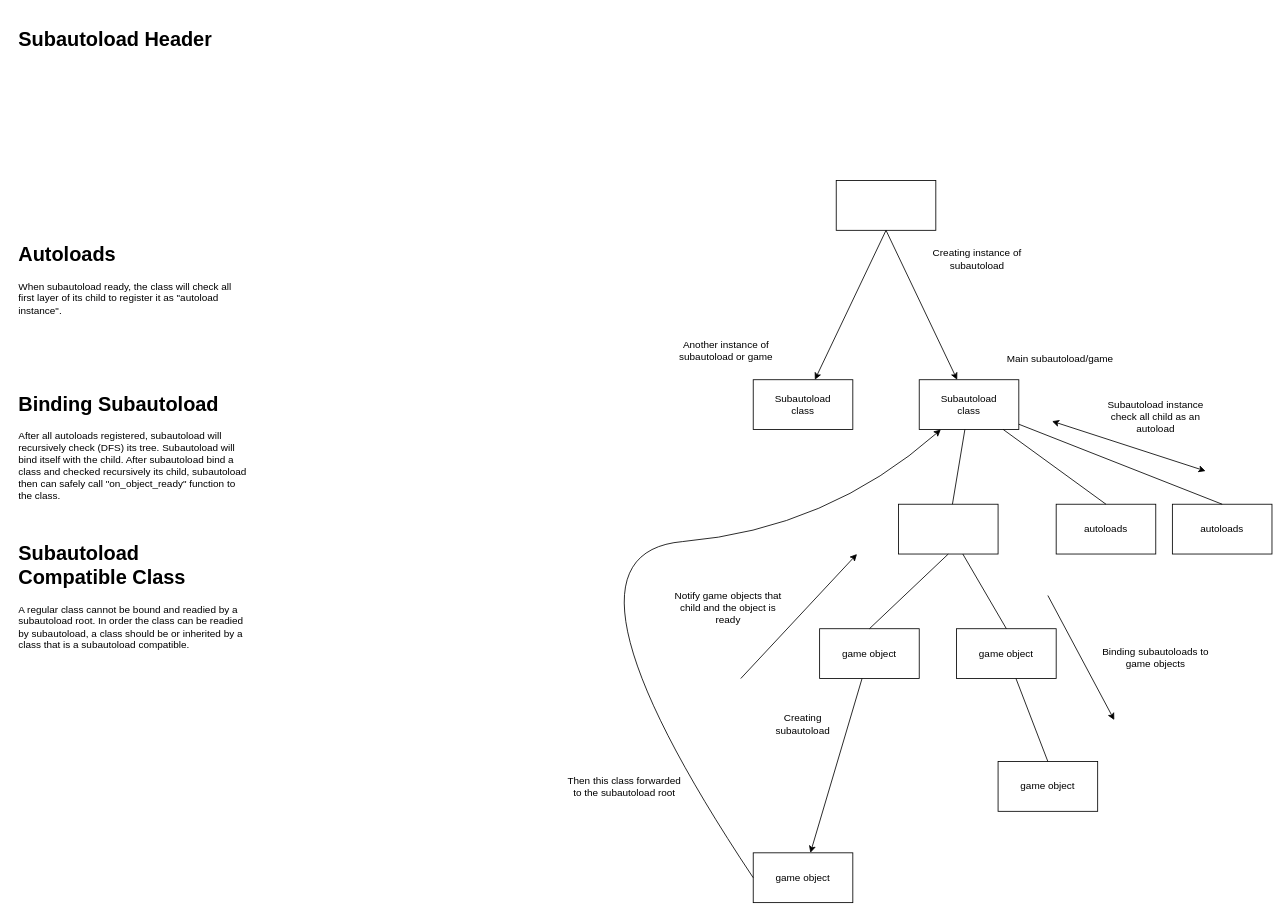
Image size: 1287x917. Some labels were removed from this diagram. The box of each missing label's shape, as (x1, y1, x2, y2) in pixels:
game_handler: (898, 503, 998, 554)
Subautoload Handler: (835, 180, 936, 230)
